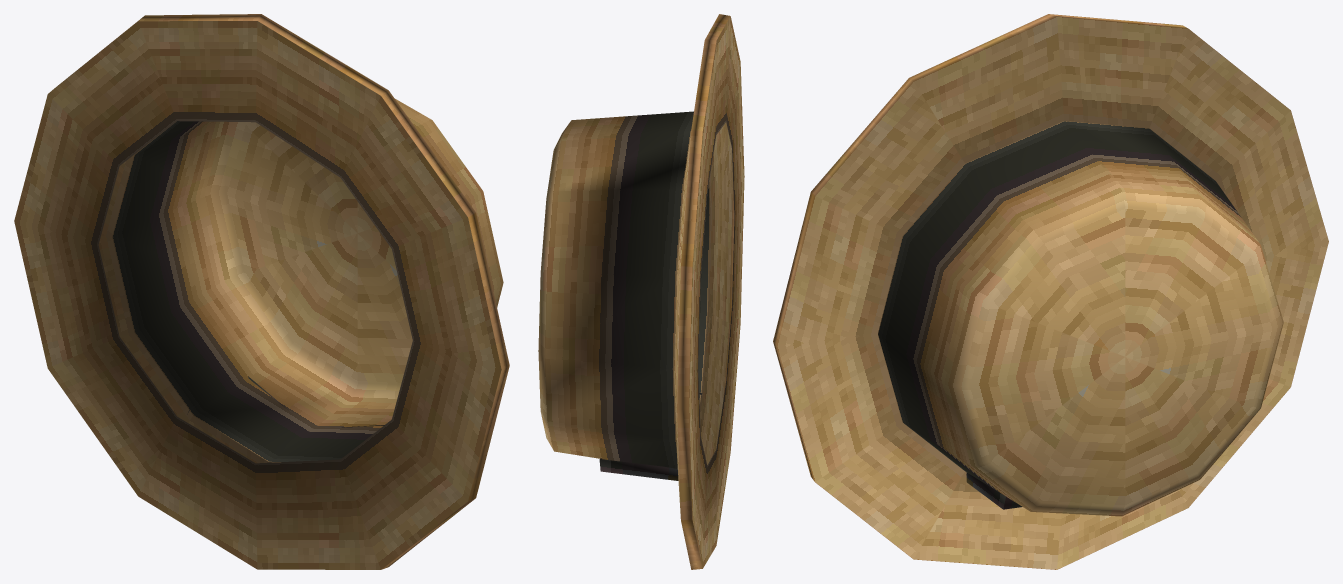
The model's file is cap_boater.dae.
3 renders of one model, left to right at view 1: azimuth 30°, elevation 25°; view 2: azimuth 150°, elevation 25°; view 3: azimuth 270°, elevation 25°, orthographic. The views are drawn at different scales.
Visible parts, largest first — view 1: cap_boater; view 2: cap_boater; view 3: cap_boater.
Part boxes in pixels (x1,y1,x2,y2): cap_boater: [14, 14, 509, 569]; cap_boater: [538, 14, 744, 569]; cap_boater: [773, 14, 1328, 569].
Bounding box in the file's own units: 19.85 × 34.21 × 31.15.
1 material, 1 textured.
